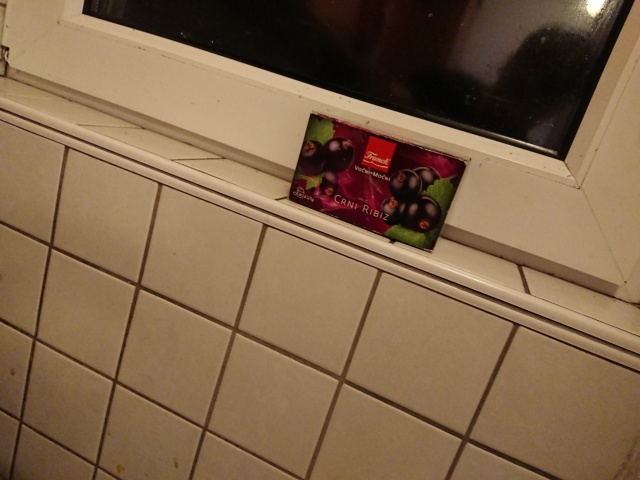Franck Black Currant Tea 60g: (283, 107, 474, 256)
